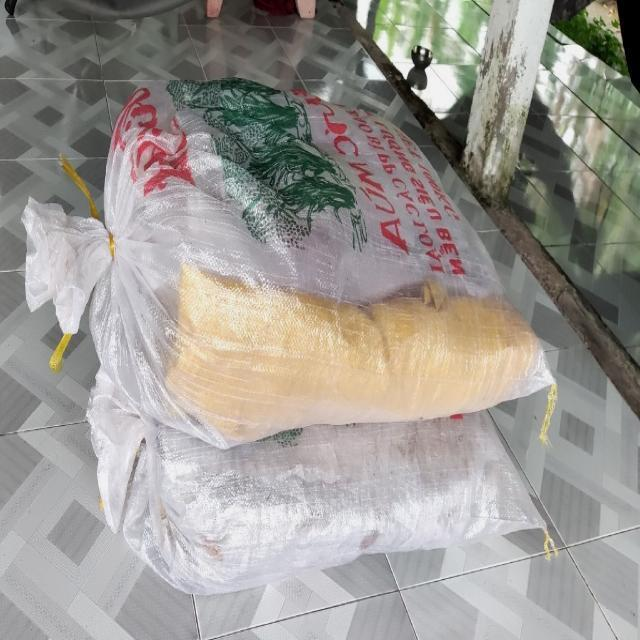gunny_bag: (21, 76, 552, 447), (86, 368, 546, 595)
